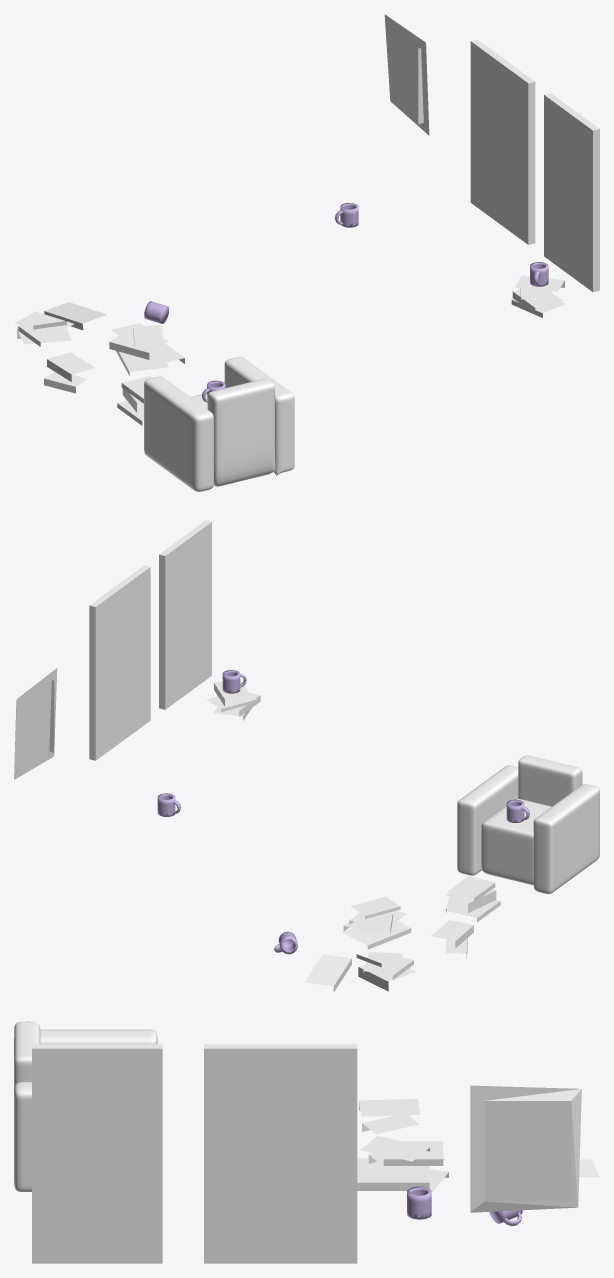
Rendered from clutter.glb.
3 renders of one model, top to bottom at view 1: azimuth 30°, elevation 25°; view 2: azimuth 150°, elevation 25°; view 3: azimuth 270°, elevation 25°, orthographic. The views are drawn at different scales.
Visible parts, largest first — view 1: sillon, poster, poster.001, cuadro.001, libro.022, libro.024, libro.030; view 2: sillon, poster, poster.001, cuadro.001, libro.022, libro.031, libro.025, libro.024, libro.030, libro.026; view 3: poster, poster.001, cuadro, sillon, cuadro.001, libro.028, libro.026, libro.024, libro.027, taza, libro.032, taza.003.
Boxes of the visible parts, x1,y1,x2,y2 form: sillon: (144, 357, 294, 491); poster: (470, 39, 535, 244); poster.001: (544, 93, 599, 292); cuadro.001: (384, 14, 429, 135); libro.022: (44, 302, 106, 330); libro.024: (47, 352, 95, 381); libro.030: (14, 311, 74, 335); sillon: (457, 755, 599, 893); poster: (89, 565, 150, 760); poster.001: (159, 520, 211, 709); cuadro.001: (14, 668, 57, 779); libro.022: (304, 954, 351, 991); libro.031: (342, 921, 411, 949); libro.025: (447, 876, 495, 902); libro.024: (431, 920, 473, 947); libro.030: (363, 951, 402, 973); libro.026: (350, 896, 400, 918); poster: (204, 1044, 357, 1263); poster.001: (32, 1044, 162, 1263); cuadro: (484, 1101, 571, 1201); sillon: (14, 1021, 157, 1191); cuadro.001: (470, 1085, 581, 1212); libro.028: (357, 1158, 429, 1190); libro.026: (360, 1136, 429, 1161); libro.024: (359, 1098, 420, 1116); libro.027: (383, 1141, 443, 1165); taza: (407, 1186, 431, 1219); libro.032: (362, 1115, 419, 1133); taza.003: (489, 1210, 522, 1226).
Size of the model in its own units: 1.9 by 1.14 by 1.75.
